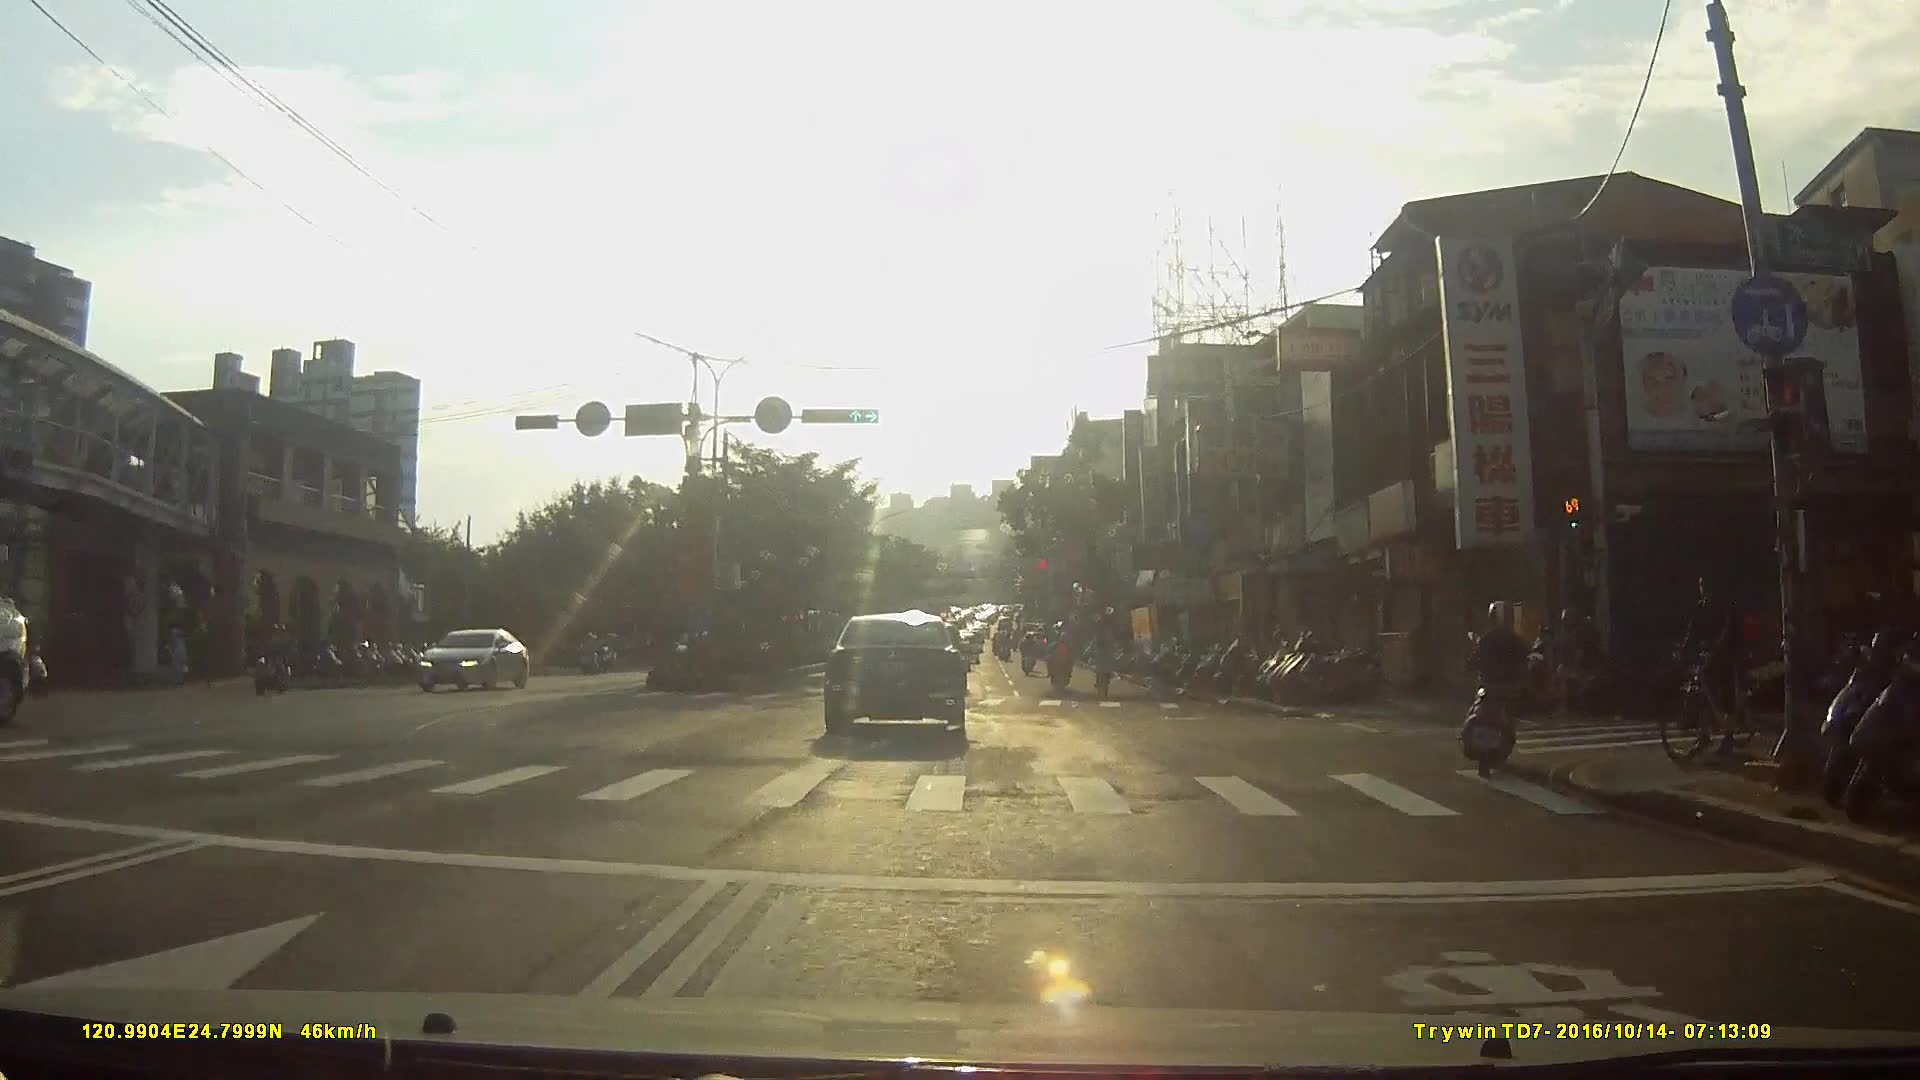rider: (1656, 564, 1785, 770), (1463, 601, 1536, 780), (250, 623, 291, 688), (1046, 629, 1078, 696), (1019, 630, 1041, 678)
vehicle: (822, 609, 983, 752), (415, 625, 526, 689), (1, 587, 49, 727)
